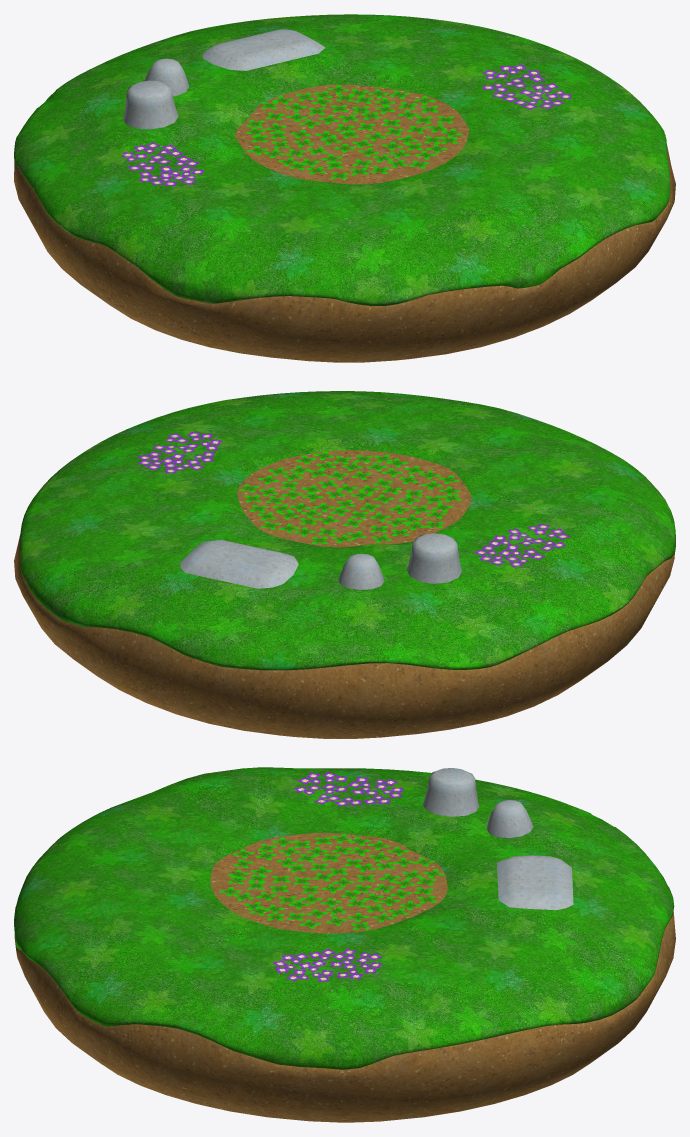
Rendered from HikeGardenRevolution.fbx.
3 renders of one model, top to bottom at view 1: azimuth 30°, elevation 25°; view 2: azimuth 150°, elevation 25°; view 3: azimuth 270°, elevation 25°, orthographic.
Visible parts, largest first — view 1: Plane.001, mesh-5.000, Plane.003, Plane.002, Plane; view 2: Plane.001, mesh-5.000, Plane.002, Plane.003, Plane; view 3: Plane.001, mesh-5.000, Plane.003, Plane.002, Plane.
Part boxes in pixels (box(x1,y1,x2,y2)): Plane.001: box(14, 14, 670, 305); mesh-5.000: box(14, 84, 675, 362); Plane.003: box(245, 85, 462, 179); Plane.002: box(123, 29, 325, 129); Plane: box(121, 64, 571, 186); Plane.001: box(20, 391, 675, 670); mesh-5.000: box(14, 450, 674, 738); Plane.002: box(180, 533, 461, 589); Plane.003: box(239, 451, 461, 544); Plane: box(137, 432, 570, 567); Plane.001: box(14, 767, 674, 1069); mesh-5.000: box(14, 833, 675, 1122); Plane.003: box(218, 834, 444, 930); Plane.002: box(423, 768, 573, 910); Plane: box(273, 772, 403, 981).
Size of the model in its own units: 293498 by 93991 by 293460.
